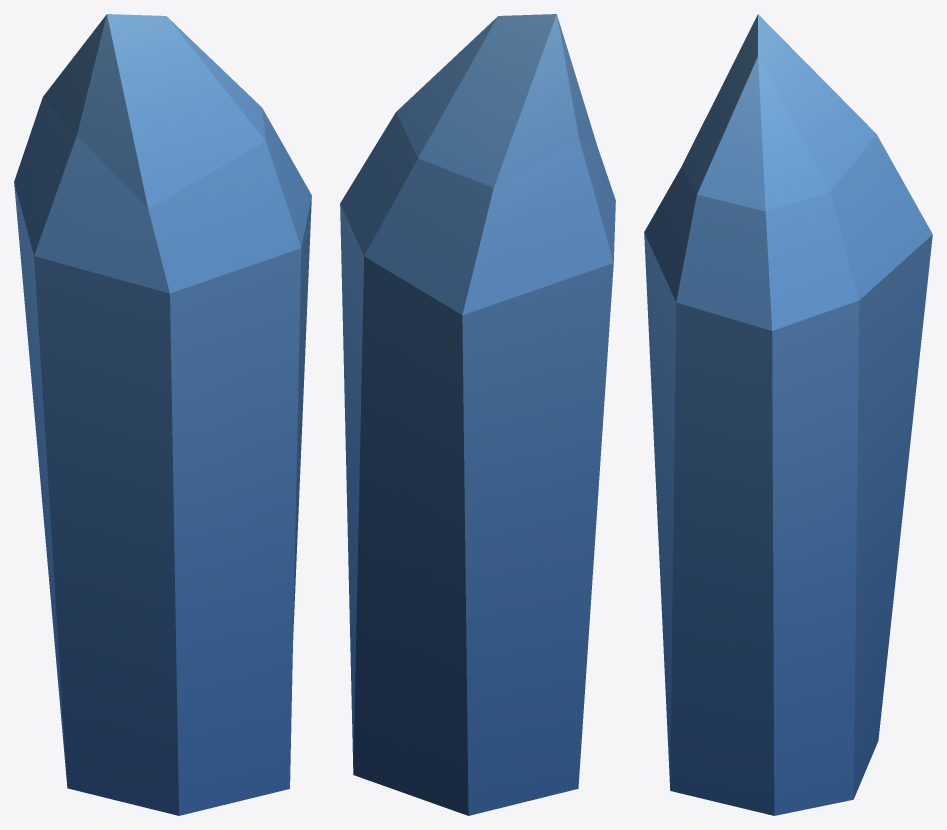
File: crystals_02.fbx
The picture shows the model from 3 angles, left to right: view 1: azimuth 30°, elevation 25°; view 2: azimuth 150°, elevation 25°; view 3: azimuth 270°, elevation 25°; orthographic projection. The views are drawn at different scales.
Visible parts, largest first — view 1: crystal_02; view 2: crystal_02; view 3: crystal_02.
Boxes of the visible parts, x1,y1,x2,y2 form: crystal_02: (14, 14, 311, 815); crystal_02: (340, 14, 615, 815); crystal_02: (644, 14, 932, 815).
Size of the model in its own units: 2.44 by 6.47 by 2.37.
Materials: 1 (1 with a texture image).
